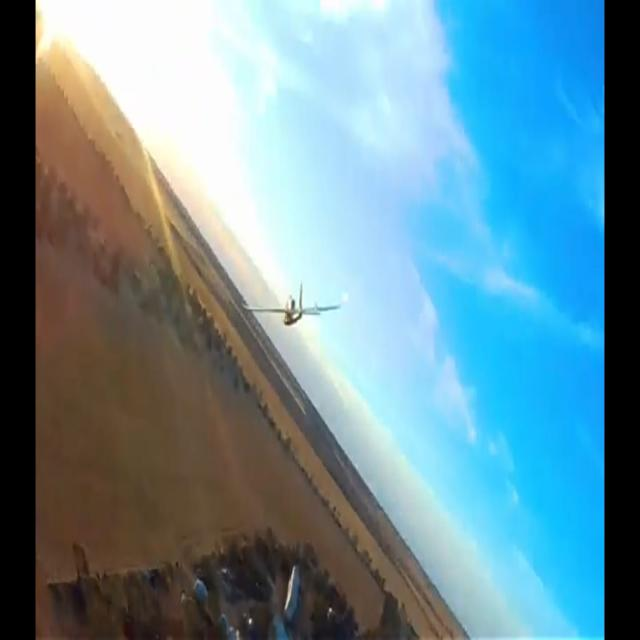iha: (274, 281, 310, 329)
